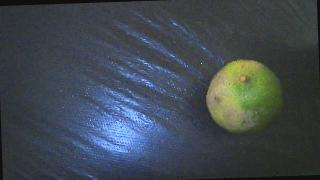DESECHO: (205, 58, 285, 135)
